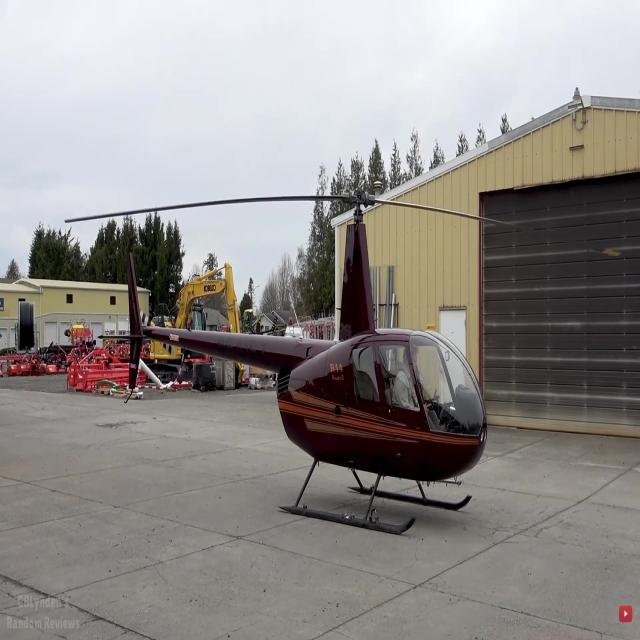CIV_HELO: (97, 195, 489, 540)
